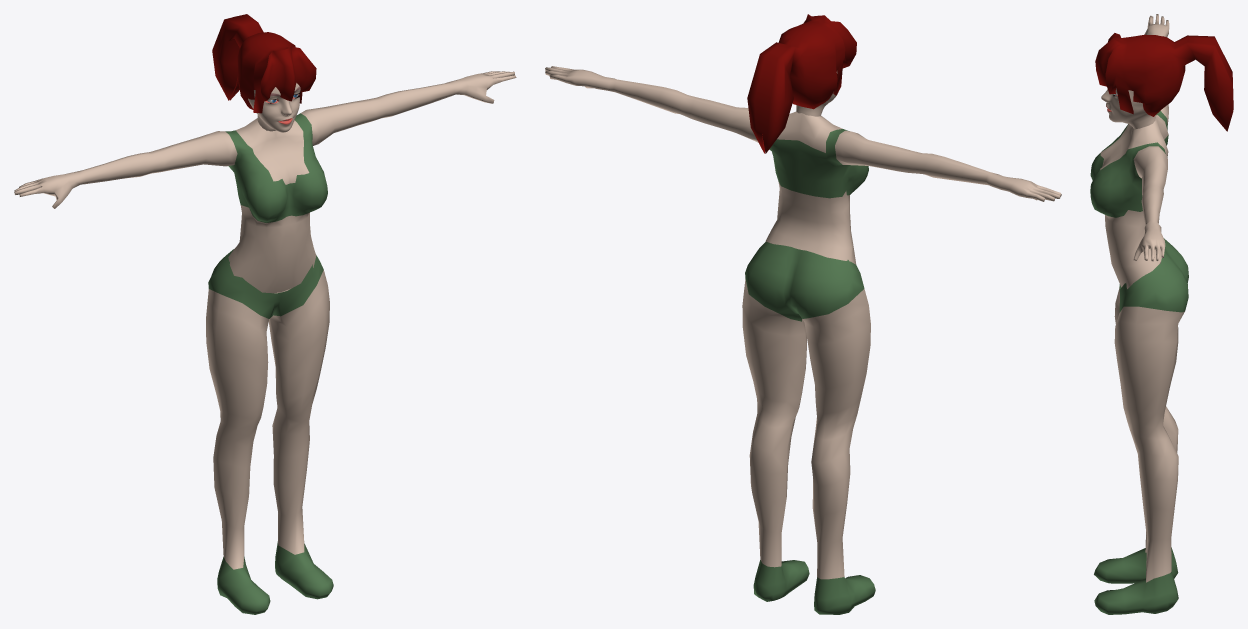
File: MULHER_FACE2.fbx
The picture shows the model from 3 angles, left to right: view 1: azimuth 30°, elevation 25°; view 2: azimuth 150°, elevation 25°; view 3: azimuth 270°, elevation 25°; orthographic projection. The views are drawn at different scales.
Visible parts, largest first — view 1: Cube.002; view 2: Cube.002; view 3: Cube.002.
Part boxes in pixels (x1=…): Cube.002: x1=14, y1=14, x2=516, y2=614; Cube.002: x1=545, y1=14, x2=1061, y2=614; Cube.002: x1=1090, y1=14, x2=1233, y2=614.
Bounding box in the file's own units: 662 × 702 × 164.
